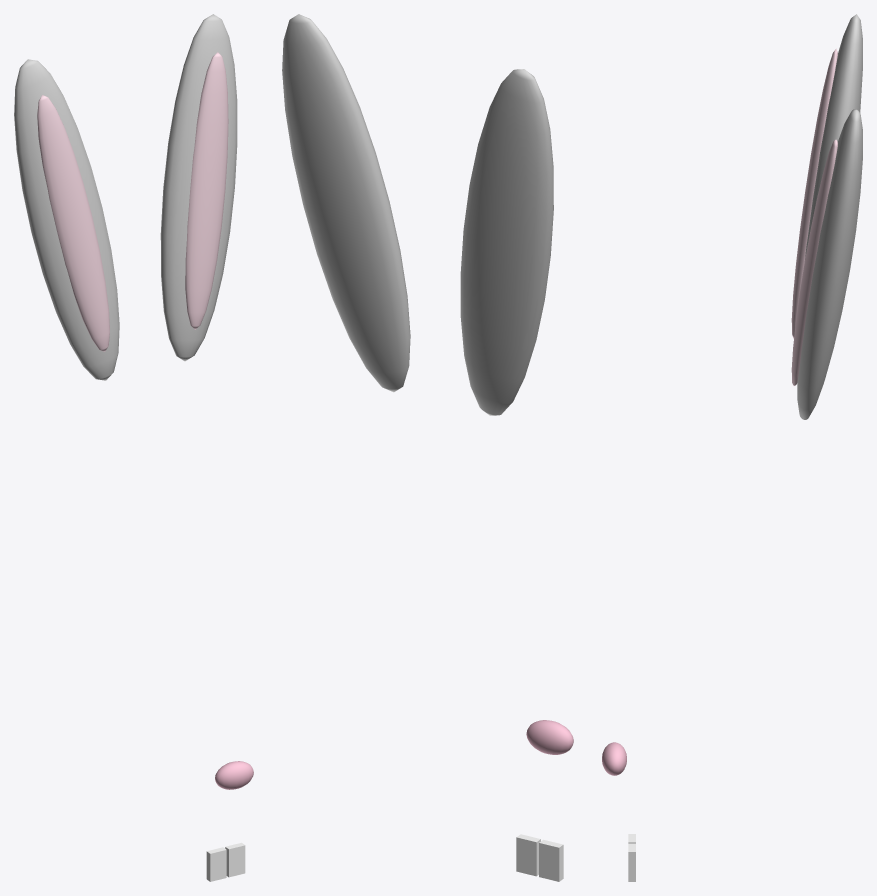
File: bunny.glb
3 renders of one model, left to right at view 1: azimuth 30°, elevation 25°; view 2: azimuth 150°, elevation 25°; view 3: azimuth 270°, elevation 25°, orthographic. The views are drawn at different scales.
Parts seen in each view (by area): view 1: ears, ears_inner, teeth, nose; view 2: ears, teeth, nose; view 3: ears, ears_inner, nose.
Part boxes in pixels (bbox=[...]): ears: bbox=[14, 14, 237, 380]; ears_inner: bbox=[37, 52, 228, 351]; teeth: bbox=[206, 842, 245, 881]; nose: bbox=[215, 761, 253, 789]; ears: bbox=[282, 14, 553, 415]; teeth: bbox=[516, 834, 563, 881]; nose: bbox=[526, 720, 573, 754]; ears: bbox=[797, 14, 862, 419]; ears_inner: bbox=[791, 48, 837, 385]; nose: bbox=[602, 742, 626, 775].
Size of the model in its own units: 1.06 by 3.53 by 1.03.
